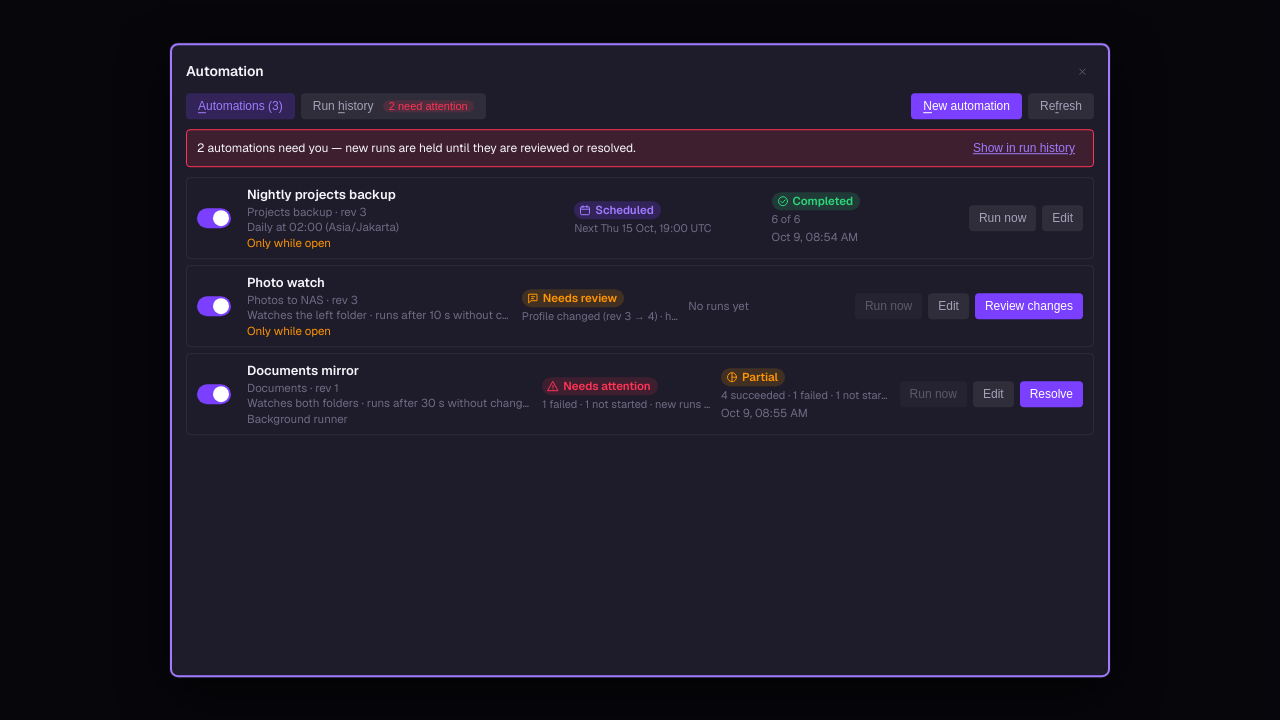
it: Watch fields in the editor (WA-1.3, WA-2) › a root without change notifications is disabled, unticked and carries its note (WA-2.3)
Click the button "New automation". click: [967, 106]
box: [911,93,1022,119]
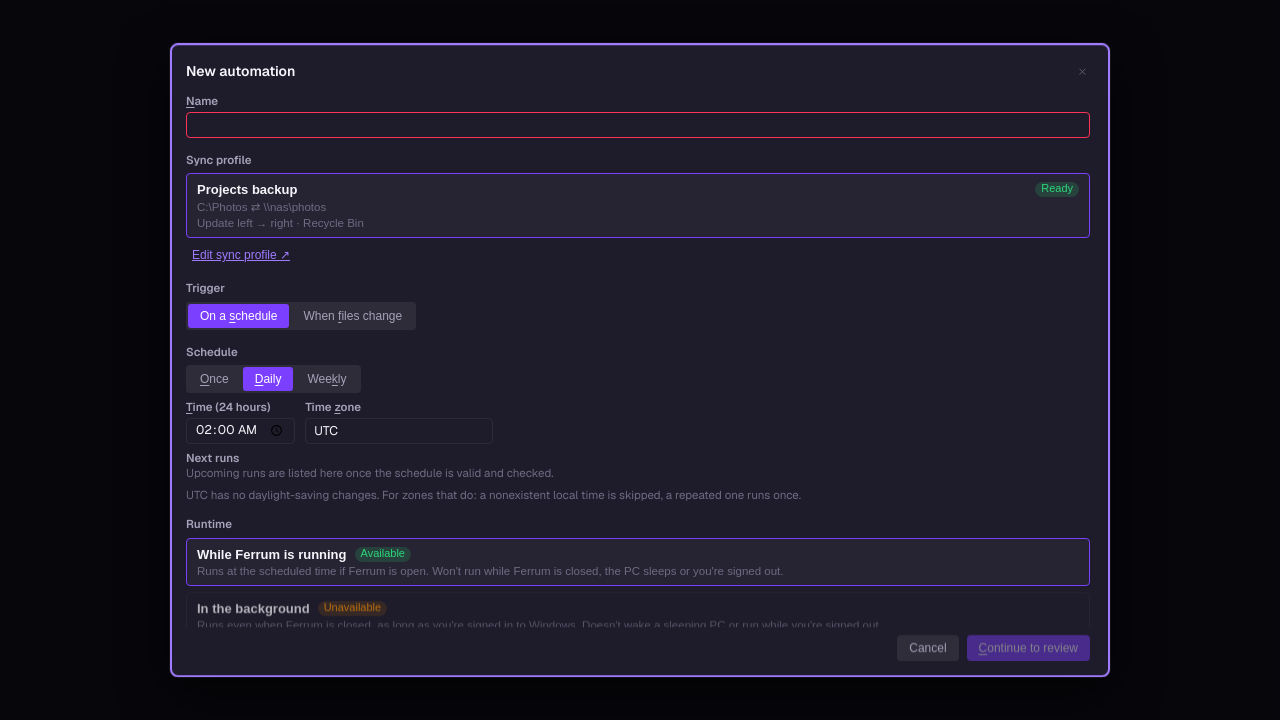
Click the radio button labelled "When files change". click: [353, 316]
box: [291,304,414,328]
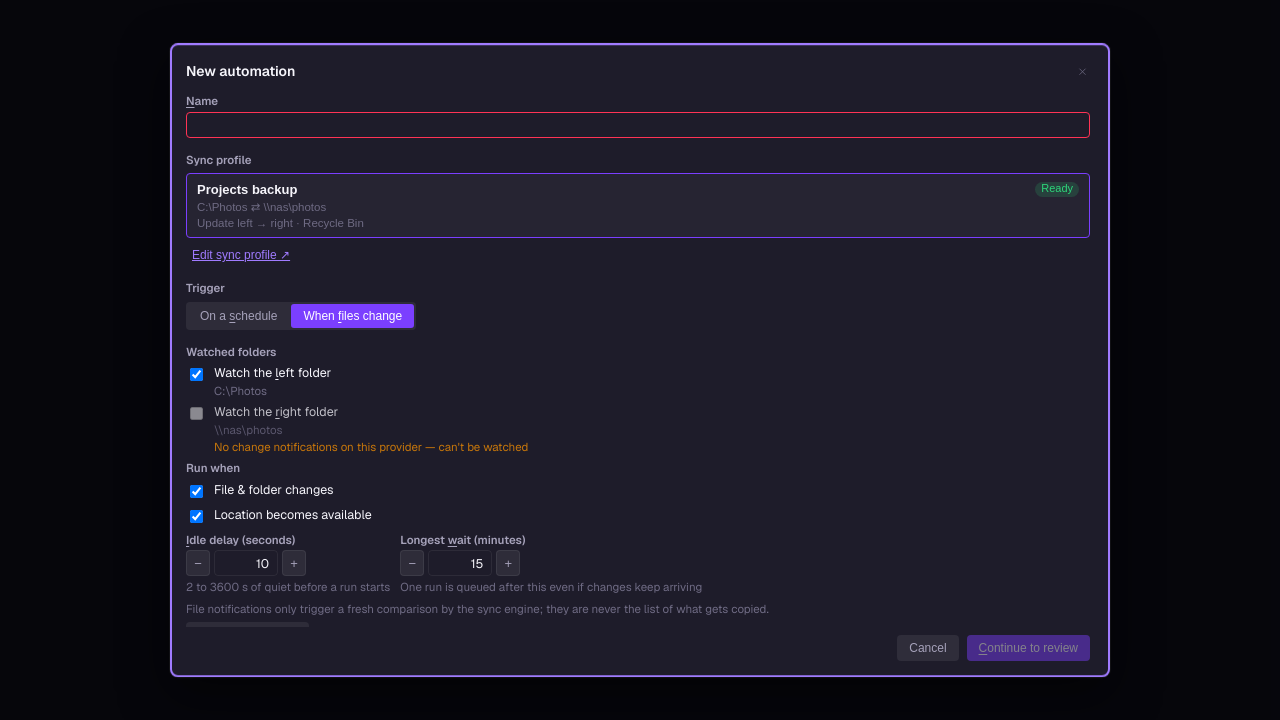
Check: the element with test id "watch-fields" is shown, box [186,344,769,649]
Check: the checkbox labelled "Watch the right folder" is disabled, box [190,408,203,421]
Check: the checkbox labelled "Watch the right folder" is not checked, box [190,408,203,421]
